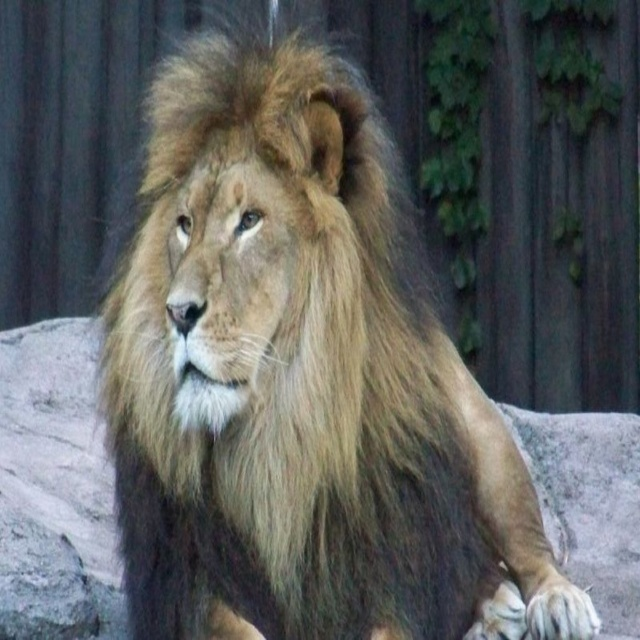Lion: (69, 0, 602, 639)
